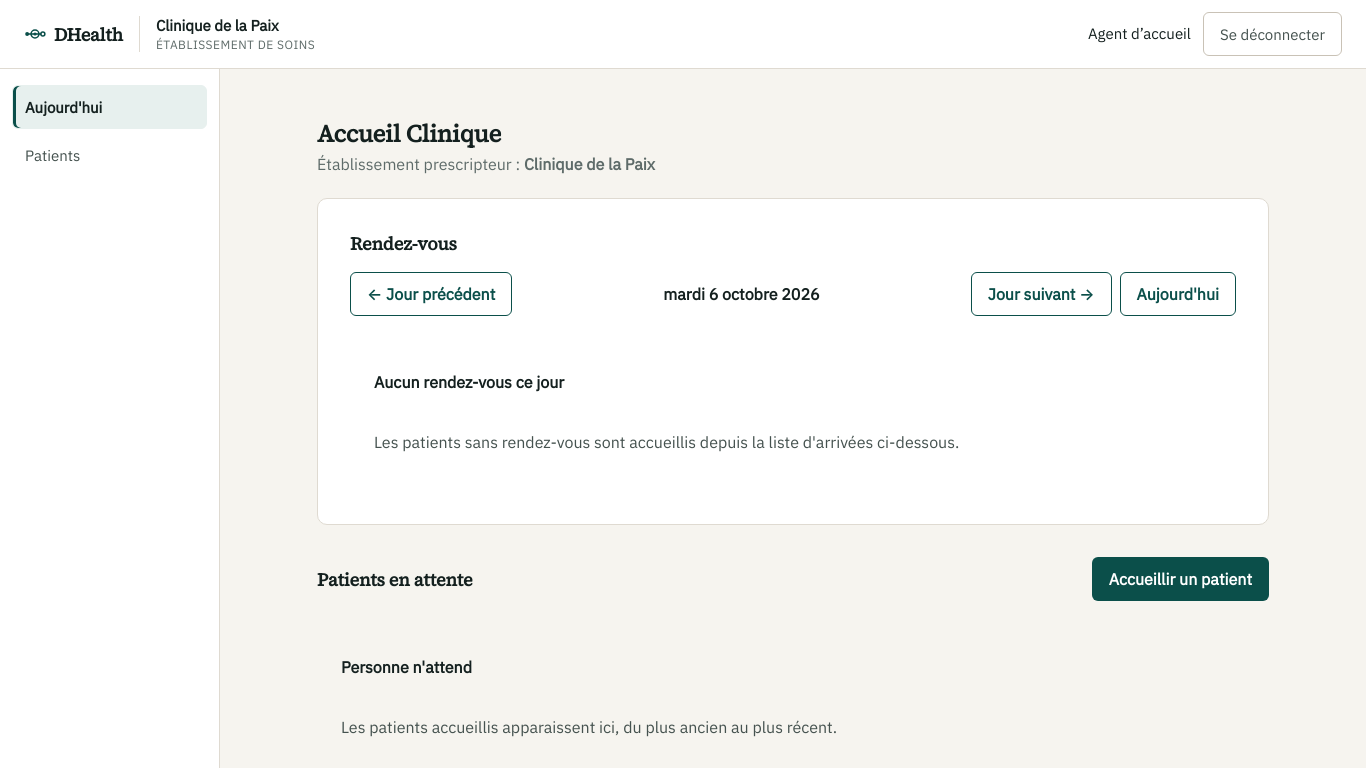
Test: Aujourd'hui — the arrival surface › withholds Nouveau patient from a member who may not register one
The width and height of the screenshot is (1366, 768).
Click the button "Accueillir un patient".
click(1180, 579)  # box [1092, 557, 1269, 601]
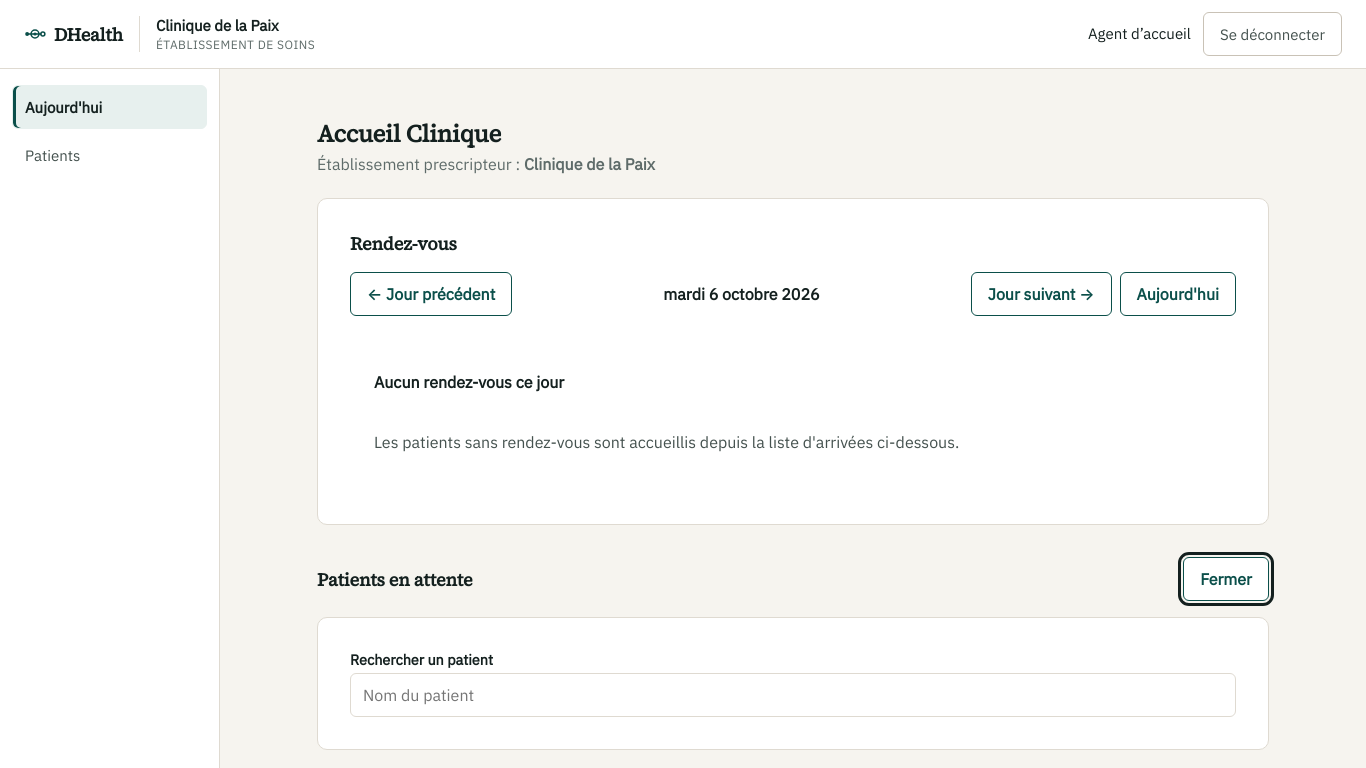
Type "Inconnu" into the search field labelled "Rechercher un patient".
click(793, 695); type("Inconnu")  # box [350, 673, 1236, 717]
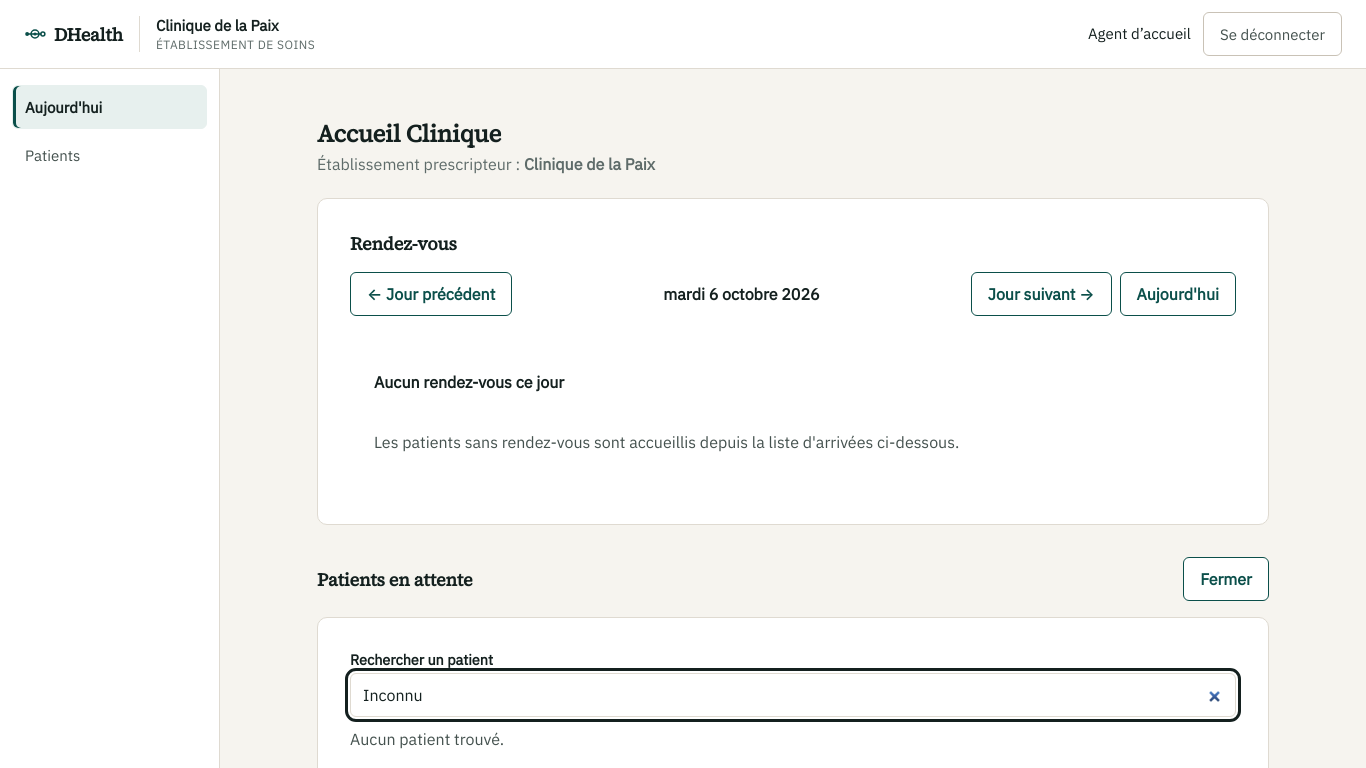
expect the text "Aucun patient trouvé." is shown: met, box [350, 729, 504, 749]
